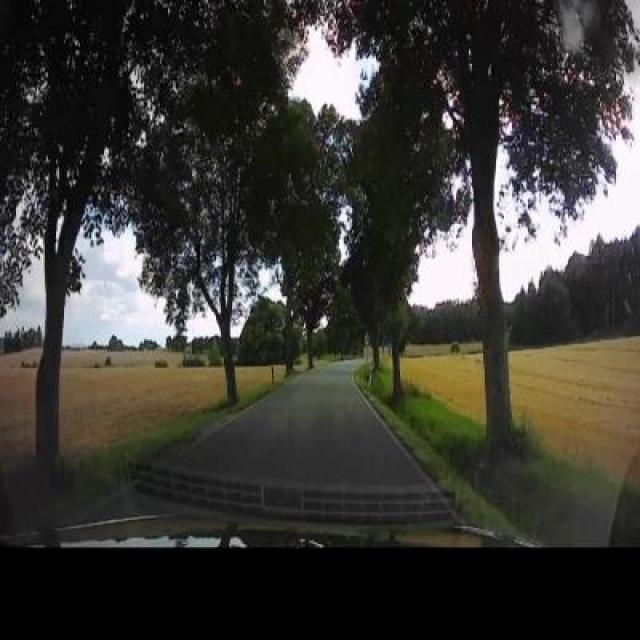clear-road: (172, 359, 426, 485)
